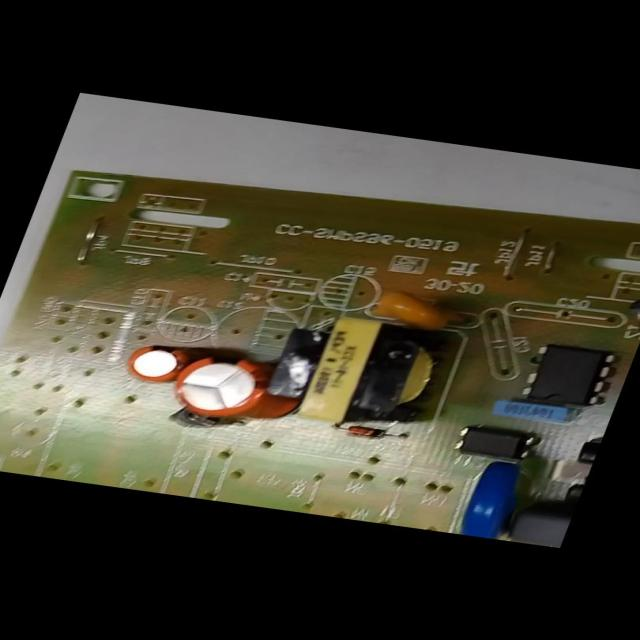Cap1: (164, 352, 278, 420)
Cap2: (121, 341, 189, 386)
MOSFET: (519, 341, 618, 406)
Mov: (453, 458, 529, 539)
Transformer: (258, 310, 457, 434), (543, 432, 603, 506)
